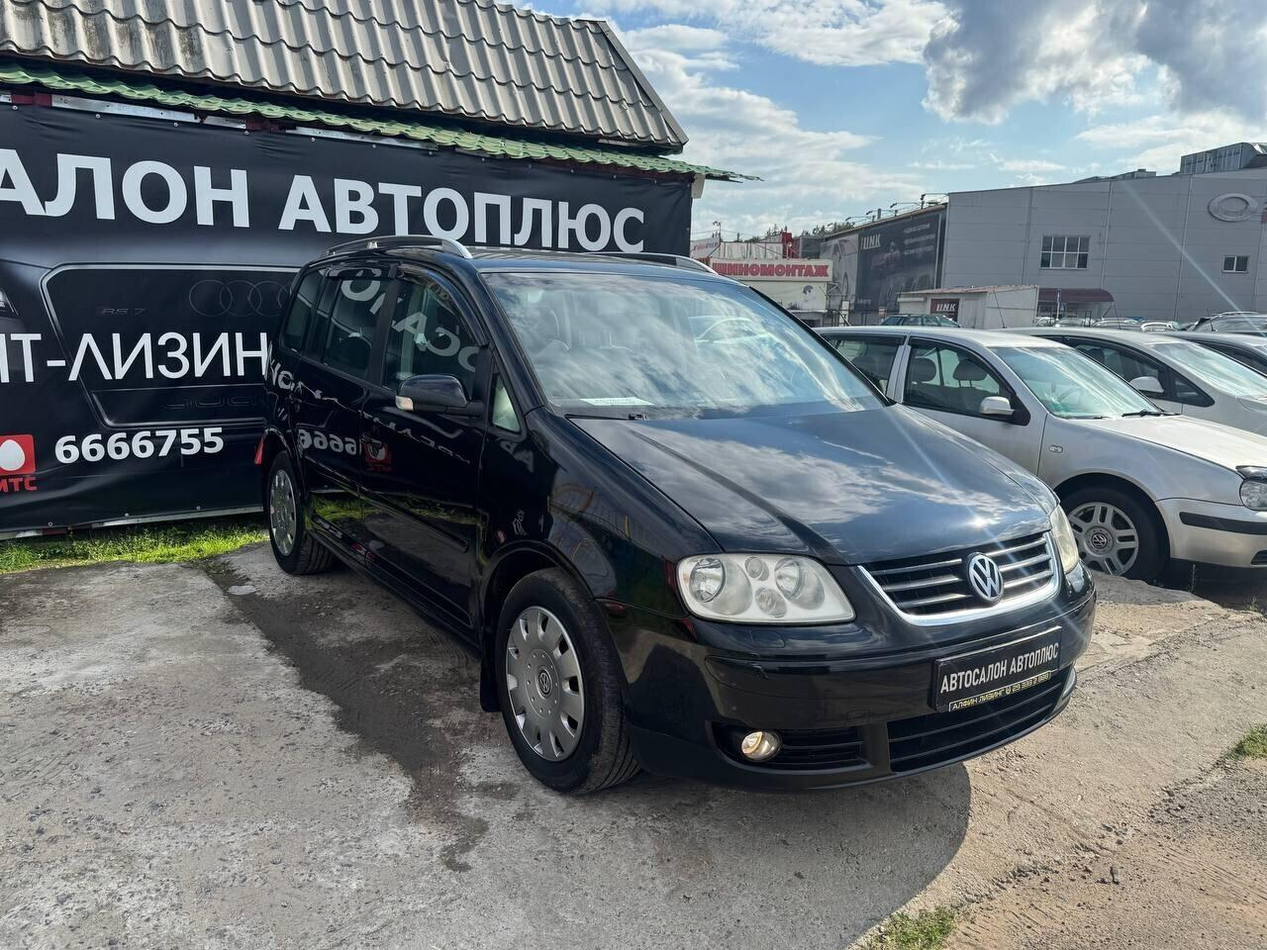Touran_2003-2006: (257, 234, 1095, 797)
